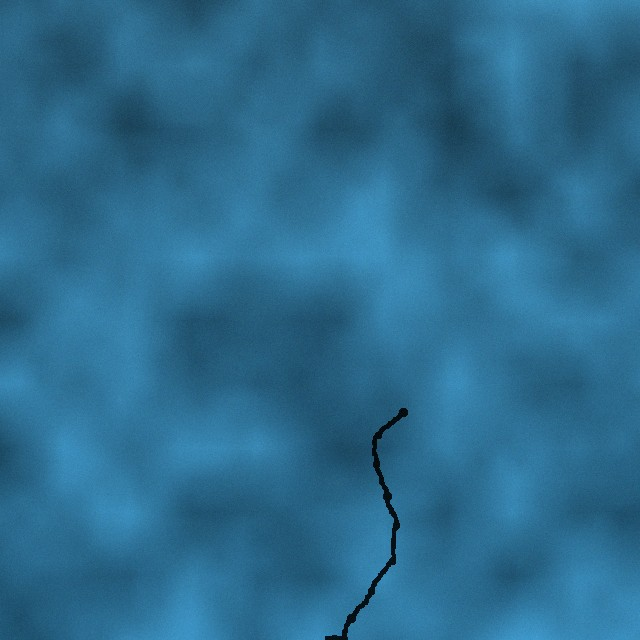crack: (322, 408, 407, 639)
